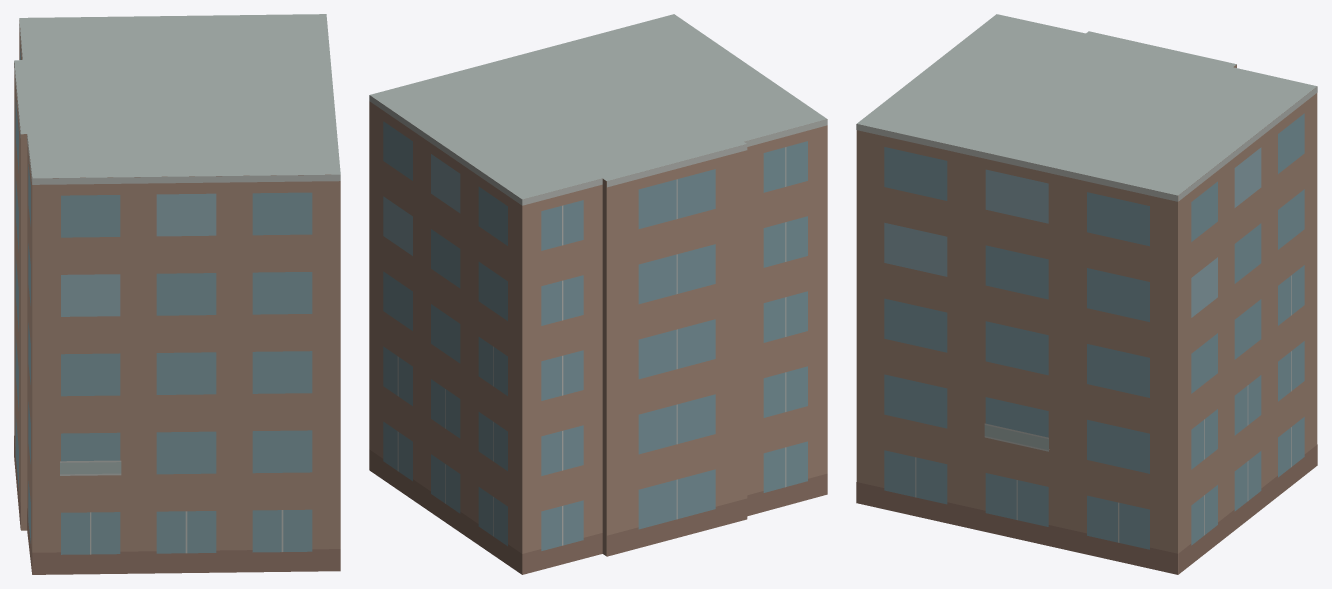
File: survey-upis-32873660.glb
3 views of the same model, side by side, from view 1: azimuth 30°, elevation 25°; view 2: azimuth 150°, elevation 25°; view 3: azimuth 270°, elevation 25° (orthographic). The views are drawn at different scales.
Visible parts, largest first — view 1: survey-upis-32873660.tmp; view 2: survey-upis-32873660.tmp; view 3: survey-upis-32873660.tmp.
Boxes of the visible parts, <box> form: survey-upis-32873660.tmp: <box>14,14,340,574</box>; survey-upis-32873660.tmp: <box>369,14,827,574</box>; survey-upis-32873660.tmp: <box>856,14,1317,574</box>.
Bounding box in the file's own units: 15.21 × 14.8 × 16.31.
